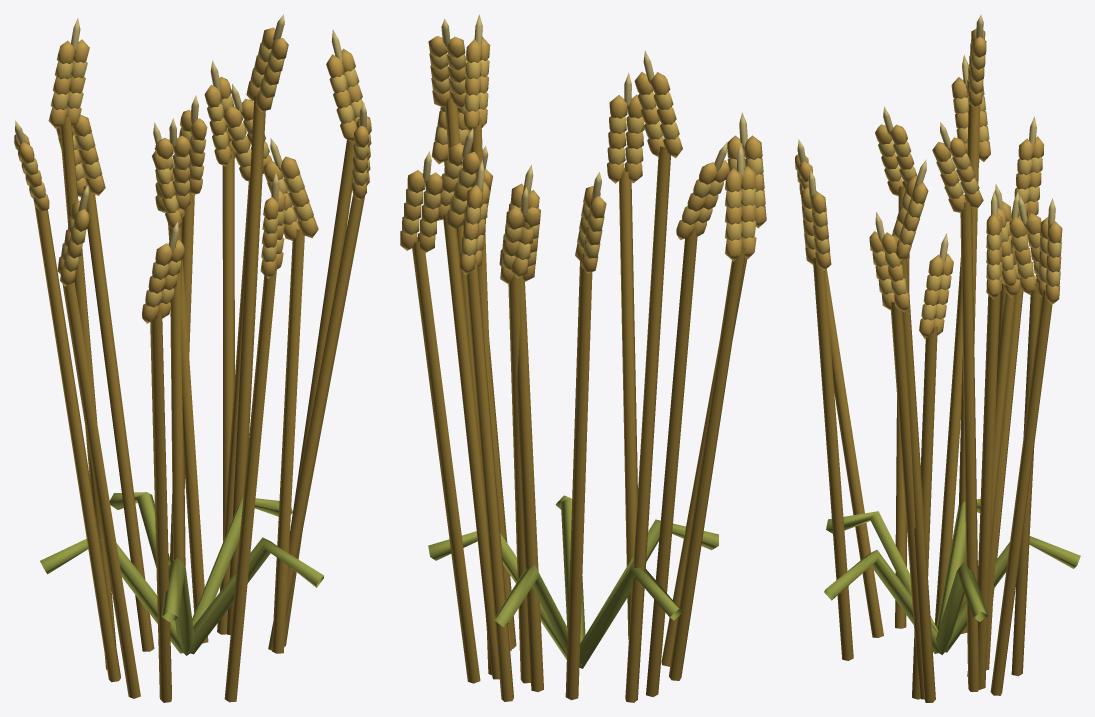
Rendered from crop_wheat.glb.
3 renders of one model, left to right at view 1: azimuth 30°, elevation 25°; view 2: azimuth 150°, elevation 25°; view 3: azimuth 270°, elevation 25°, orthographic. The views are drawn at different scales.
Parts seen in each view (by area): view 1: crop_wheat_main; view 2: crop_wheat_main; view 3: crop_wheat_main.
Boxes of the visible parts, x1,y1,x2,y2 form: crop_wheat_main: (14,14,371,702); crop_wheat_main: (400,14,766,702); crop_wheat_main: (795,14,1080,702).
Size of the model in its own units: 0.5056 by 0.9807 by 0.4179.
